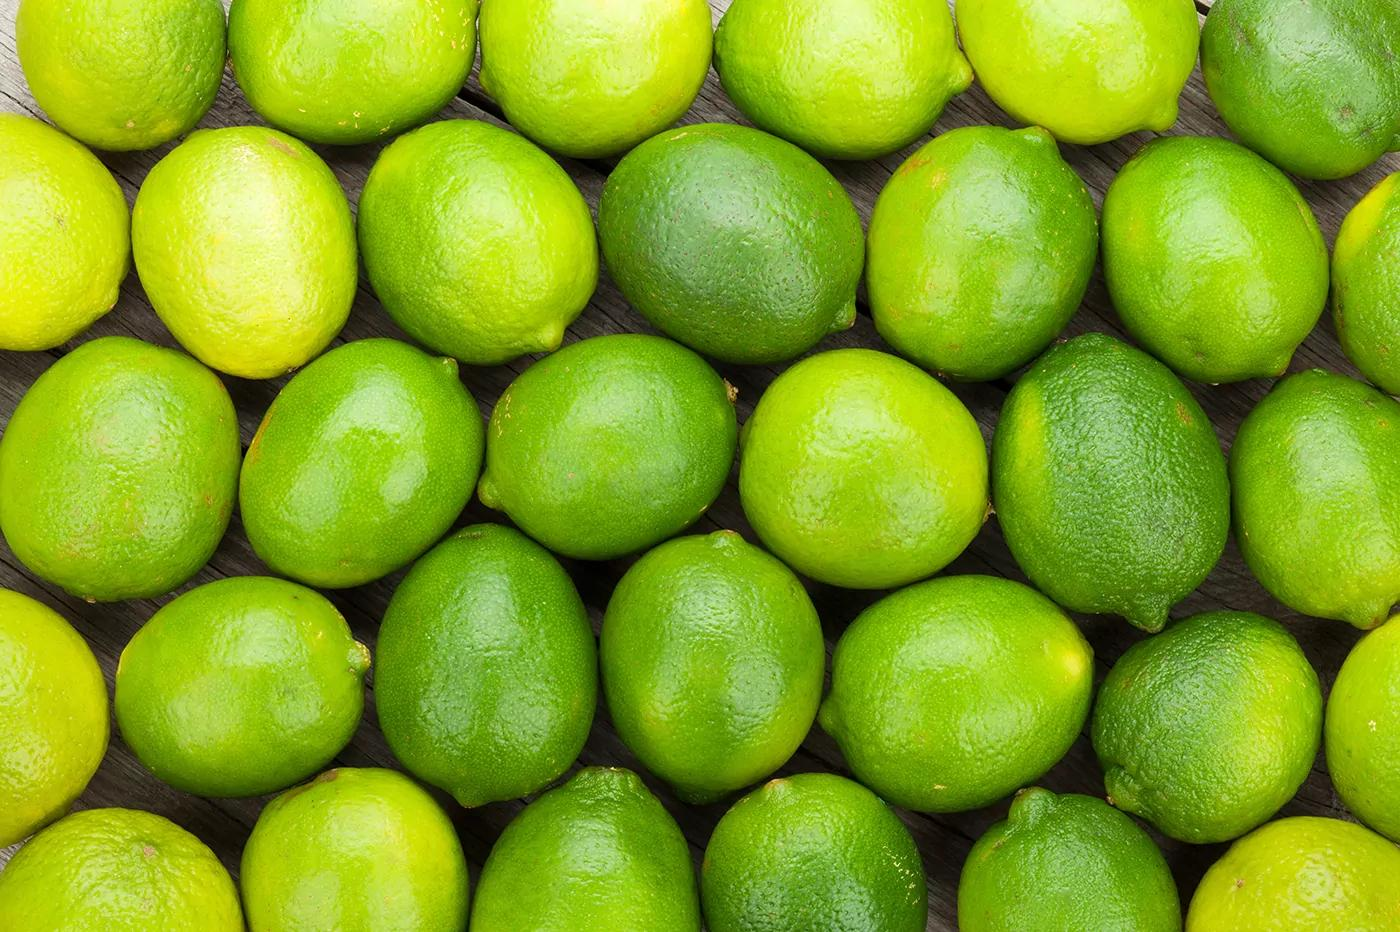lime: (838, 555, 1093, 808), (1007, 332, 1221, 630), (234, 328, 476, 590), (355, 123, 619, 363), (97, 567, 374, 788), (368, 516, 599, 782), (743, 340, 995, 574), (130, 118, 358, 377), (875, 106, 1103, 364), (612, 113, 855, 355), (12, 333, 233, 596), (593, 528, 822, 781), (1101, 131, 1330, 378), (471, 325, 725, 532), (1098, 609, 1326, 830), (240, 760, 475, 932), (1243, 366, 1400, 619), (703, 773, 944, 932), (479, 762, 701, 932), (722, 0, 968, 147), (957, 778, 1181, 932), (233, 1, 482, 139), (1201, 3, 1400, 176), (956, 8, 1198, 149), (483, 7, 717, 149), (3, 99, 133, 348), (15, 0, 229, 143), (11, 804, 243, 929), (4, 578, 116, 831), (1195, 811, 1400, 931)
